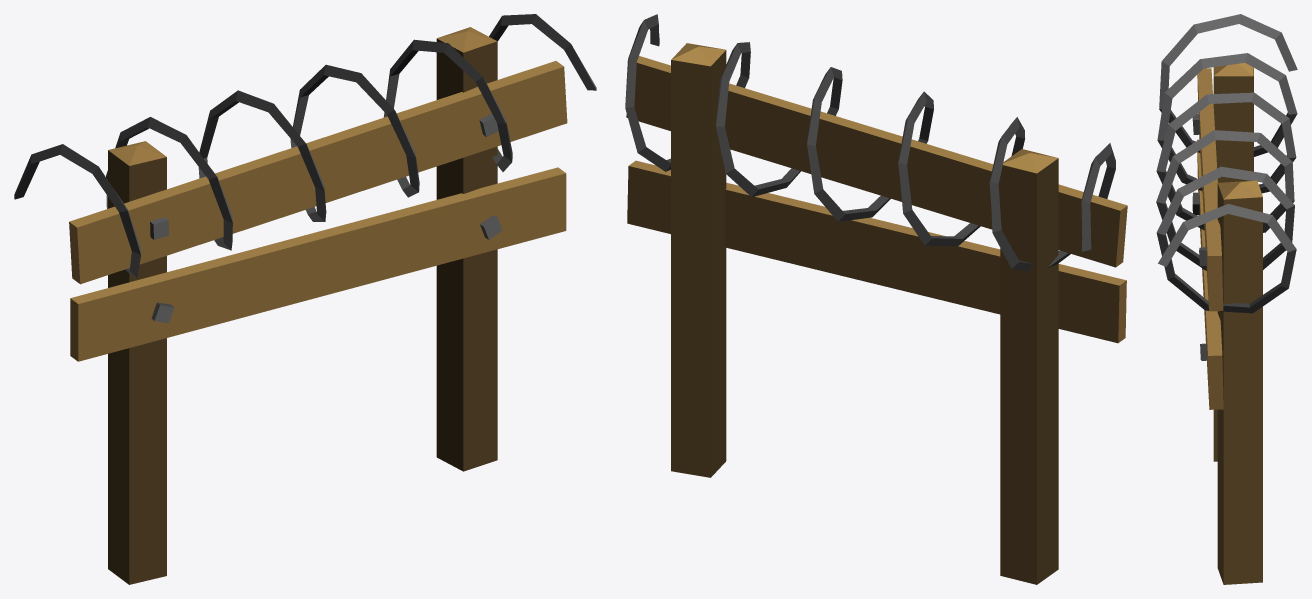
Rendered from FenceSmall_01.fbx.
The picture shows the model from 3 angles, left to right: view 1: azimuth 30°, elevation 25°; view 2: azimuth 150°, elevation 25°; view 3: azimuth 270°, elevation 25°; orthographic projection. The views are drawn at different scales.
Parts seen in each view (by area): view 1: FenceSmall_01; view 2: FenceSmall_01; view 3: FenceSmall_01.
Boxes of the visible parts, x1,y1,x2,y2 form: FenceSmall_01: [14, 14, 596, 584]; FenceSmall_01: [625, 14, 1127, 584]; FenceSmall_01: [1156, 14, 1297, 584].
Bounding box in the file's own units: 3.84 × 0.9946 × 3.31.
